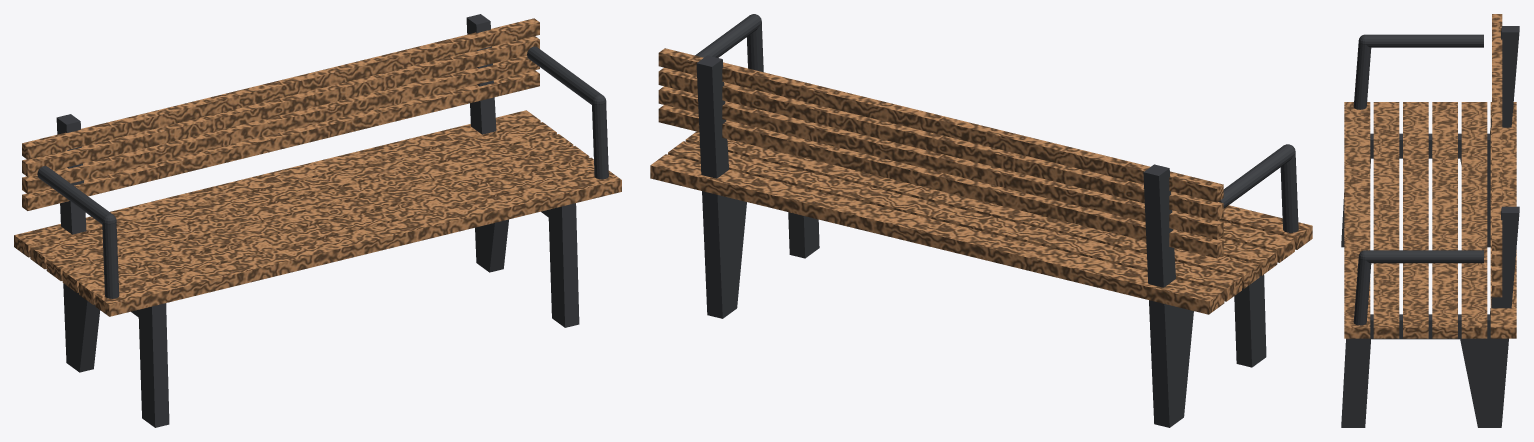
3 views of the same model, side by side, from view 1: azimuth 30°, elevation 25°; view 2: azimuth 150°, elevation 25°; view 3: azimuth 270°, elevation 25° (orthographic). The views are drawn at different scales.
Visible parts, largest first — view 1: armrests=true;backHeight=0.8;backrest=true;depth=0.6;frameMa (×2); view 2: armrests=true;backHeight=0.8;backrest=true;depth=0.6;frameMa (×2); view 3: armrests=true;backHeight=0.8;backrest=true;depth=0.6;frameMa (×2).
Part boxes in pixels (bbox=[...]): armrests=true;backHeight=0.8;backrest=true;depth=0.6;frameMa (×2): bbox=[14, 14, 621, 427]; armrests=true;backHeight=0.8;backrest=true;depth=0.6;frameMa (×2): bbox=[650, 14, 1312, 427]; armrests=true;backHeight=0.8;backrest=true;depth=0.6;frameMa (×2): bbox=[1341, 14, 1519, 427].
Size of the model in its own units: 1.8 by 0.6 by 0.8.
Materials: 2 (1 with a texture image).
